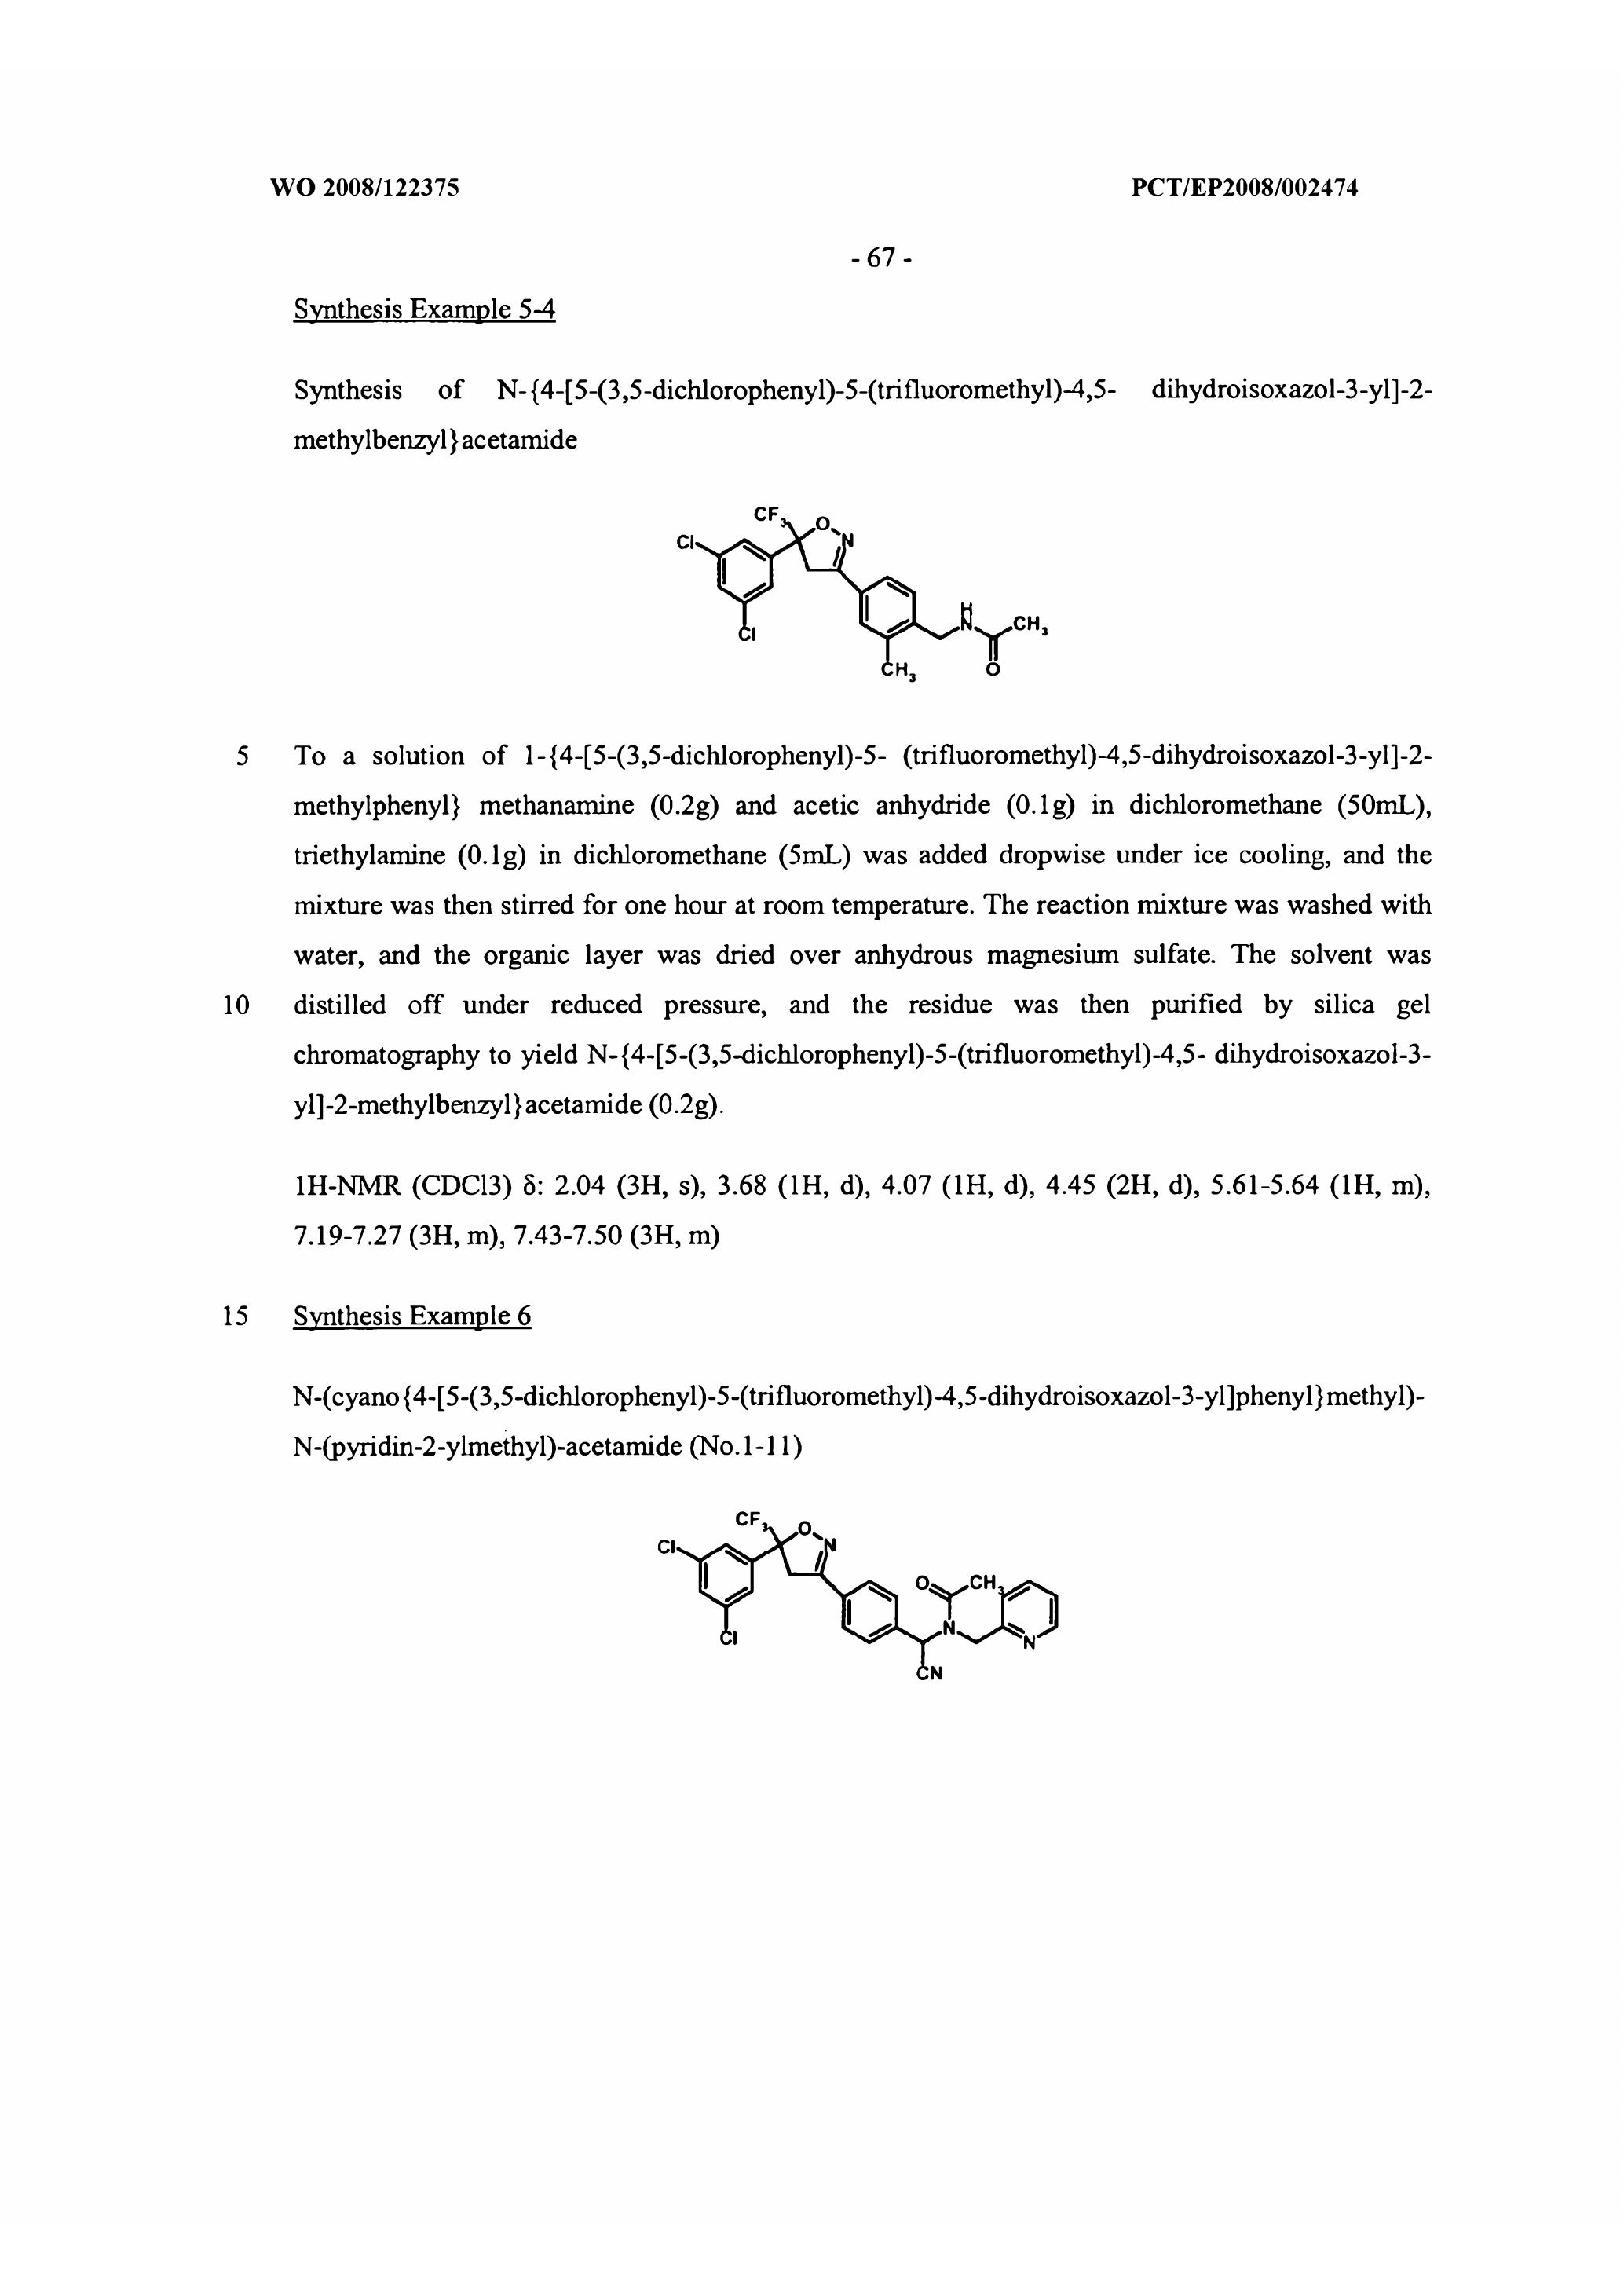relevant-structures: (612, 1475, 1123, 1740), (661, 459, 1151, 717)
